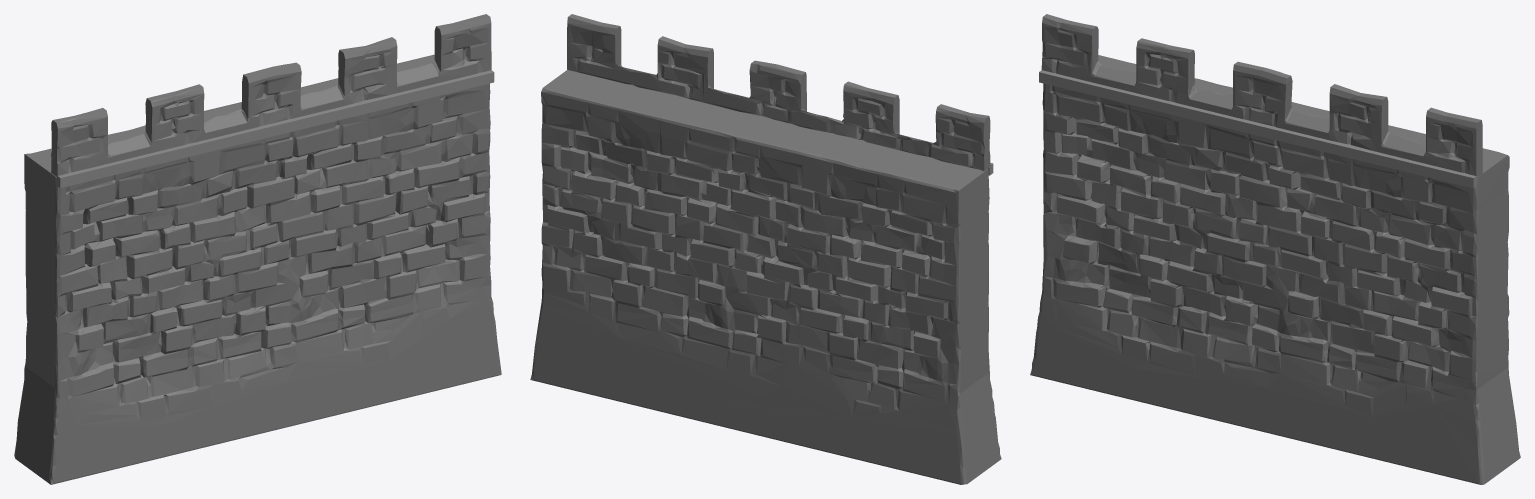
File: castle_battlement_c1.FBX
3 renders of one model, left to right at view 1: azimuth 30°, elevation 25°; view 2: azimuth 150°, elevation 25°; view 3: azimuth 330°, elevation 25°, orthographic. The views are drawn at different scales.
Visible parts, largest first — view 1: castle_battlement_c1; view 2: castle_battlement_c1; view 3: castle_battlement_c1.
Boxes of the visible parts, <box> form: castle_battlement_c1: <box>14,14,501,484</box>; castle_battlement_c1: <box>530,14,1001,484</box>; castle_battlement_c1: <box>1030,14,1520,484</box>.
Bounding box in the file's own units: 15.63 × 11.8 × 2.31.
